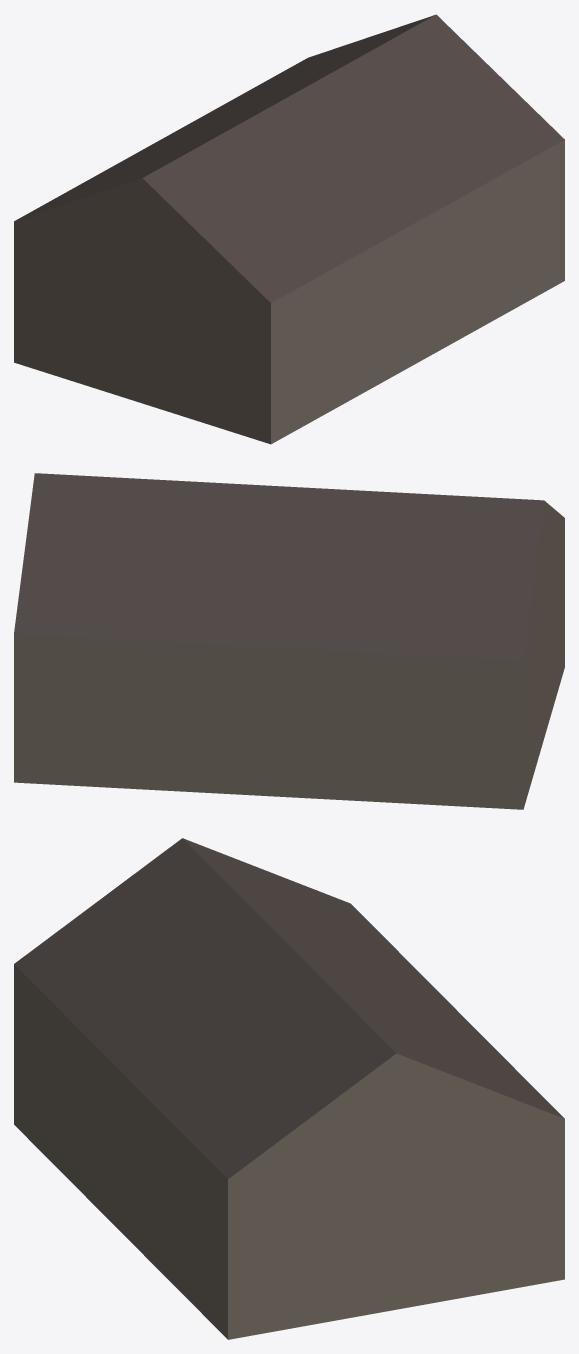
3 views of the same model, one above another, from view 1: azimuth 30°, elevation 25°; view 2: azimuth 150°, elevation 25°; view 3: azimuth 270°, elevation 25° (orthographic). The views are drawn at different scales.
Parts seen in each view (by area): view 1: HP-w859457324; view 2: HP-w859457324; view 3: HP-w859457324.
Boxes of the visible parts, x1,y1,x2,y2 form: HP-w859457324: (14,14,564,444); HP-w859457324: (14,473,564,809); HP-w859457324: (14,838,564,1339).
Size of the model in its own units: 22.1 by 9.58 by 18.66.
